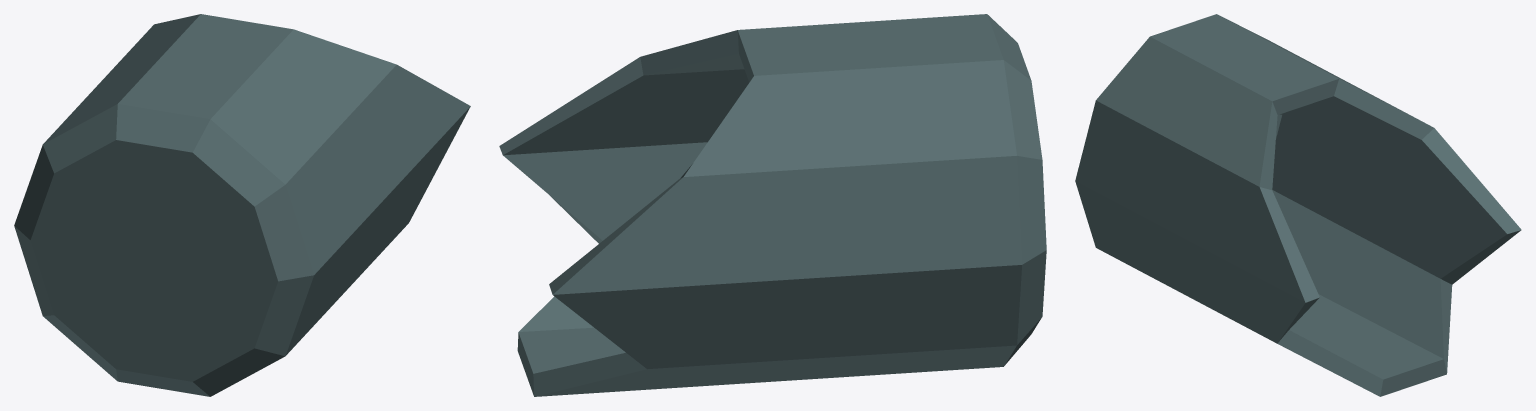
Rendered from bottle-broken-bottom.fbx.
The picture shows the model from 3 angles, left to right: view 1: azimuth 30°, elevation 25°; view 2: azimuth 150°, elevation 25°; view 3: azimuth 270°, elevation 25°; orthographic projection. The views are drawn at different scales.
Visible parts, largest first — view 1: bottle_broken_02; view 2: bottle_broken_02; view 3: bottle_broken_02.
Boxes of the visible parts, x1,y1,x2,y2 form: bottle_broken_02: (14, 14, 470, 396); bottle_broken_02: (499, 14, 1046, 396); bottle_broken_02: (1075, 14, 1521, 396).
Bounding box in the file's own units: 35.16 × 19.94 × 33.84.
